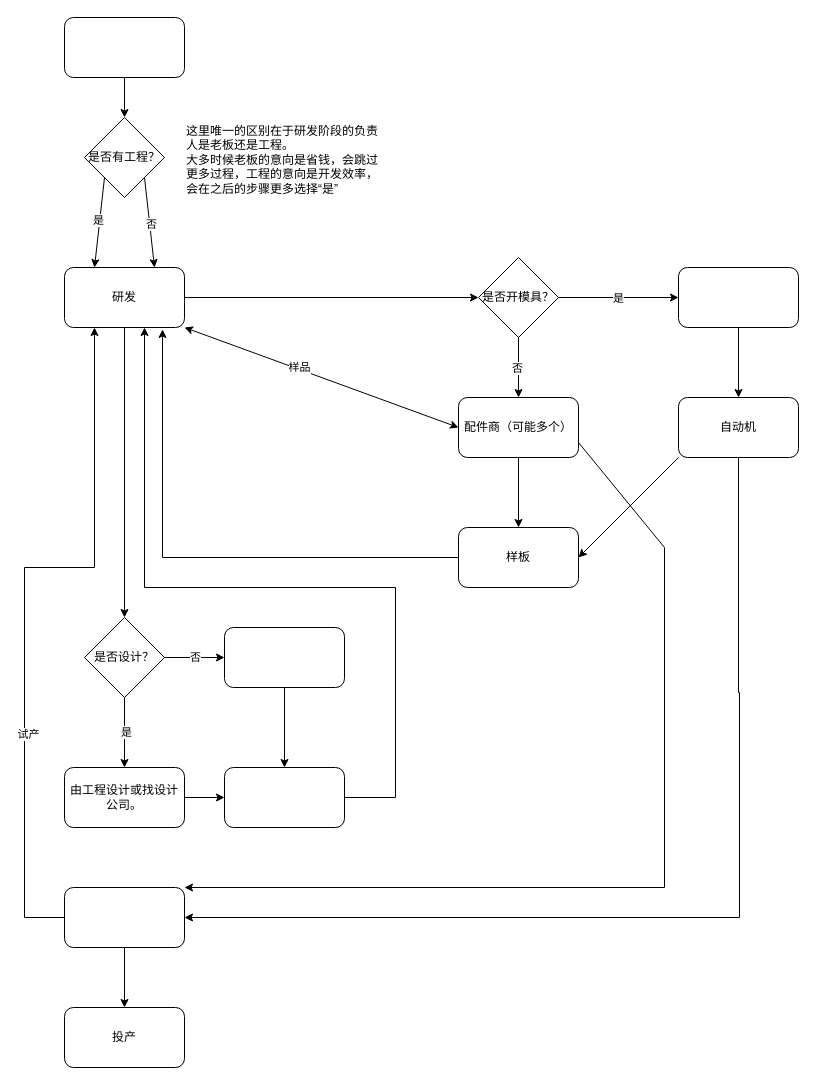
Image size: 816x1085. Some labels were removed from this diagram. Here are the shapes that lost their labels. From the top down, the centre of each, then its label:
At pixel 124 47: "意向".
At pixel 738 297: "模房".
At pixel 284 657: "老板自己网上找几张图片指定抄谁。".
At pixel 284 797: "设计方案".
At pixel 124 917: "车间".
